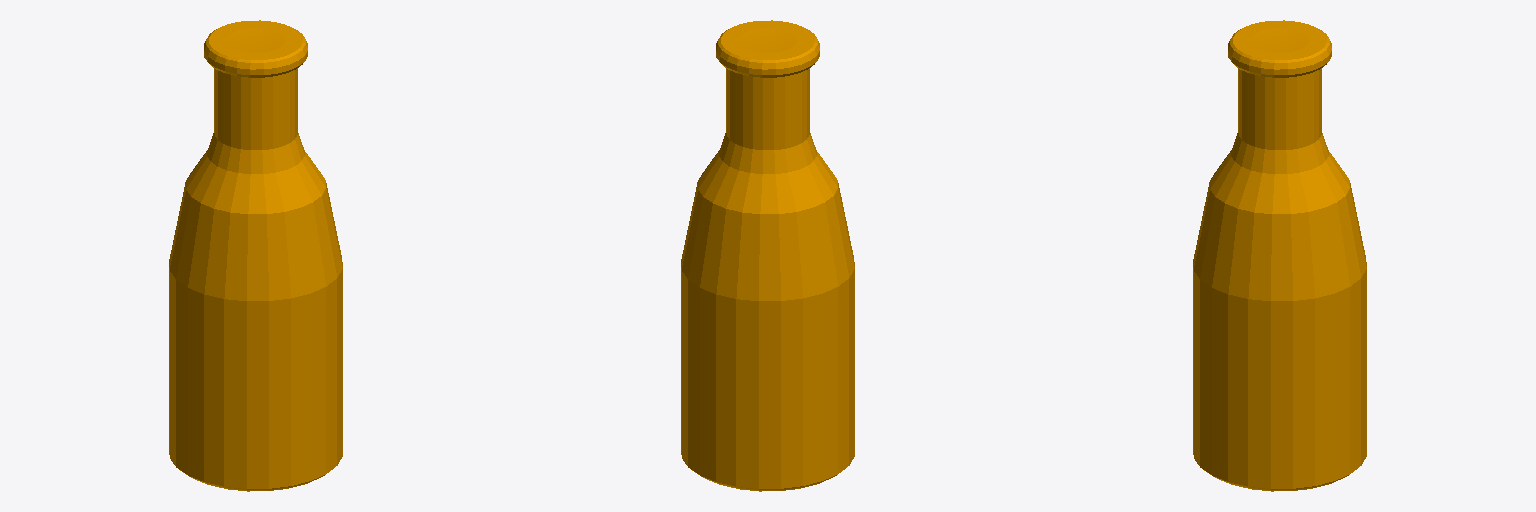
robot.urdf — obj_7:
<?xml version="1.0"?>
<robot name="obj_7">
  <link name="obj_7">
    <visual>
      <origin xyz="0.0 0.0 0.0" rpy="0 0 0"/>
      <geometry>
        <mesh filename="../mesh/ncf_mug_cupholder/obj_assets/7/obj_collision.obj" scale="1 1 1"/>
      </geometry>
    </visual>
    <collision>
      <origin xyz="0.0 0.0 0.0" rpy="0 0 0"/>
      <geometry>
        <mesh filename="../mesh/ncf_mug_cupholder/obj_assets/7/obj_collision.obj" scale="1 1 1"/>
      </geometry>
      <sdf resolution="512"/>
    </collision >    
    <inertial>
      <mass value="0.102"/>
      <inertia ixx="0.0001" ixy="0.0" ixz="0.0" iyy="0.0001" iyz="0.0" izz="0.0001"/>
    </inertial>
  </link>
</robot>

--- Render facts (derived) ---
Views: 3 orthographic renders of the robot side by side, from view 1: azimuth 30°, elevation 25°; view 2: azimuth 150°, elevation 25°; view 3: azimuth 270°, elevation 25°.
Robot: obj_7 — 1 links, 0 joints (none); root link obj_7; default pose: all joints at 0.
Links seen in each view (by area): view 1: obj_7; view 2: obj_7; view 3: obj_7.
Boxes of the visible links, x1,y1,x2,y2 form: obj_7: (169,20,342,491); obj_7: (681,20,854,491); obj_7: (1193,20,1366,491).
Bounding box of the posed robot: 0.0595 × 0.0595 × 0.1592 m (x, y, z).
1 mesh visuals loaded from 1 distinct referenced files (1 OBJ).